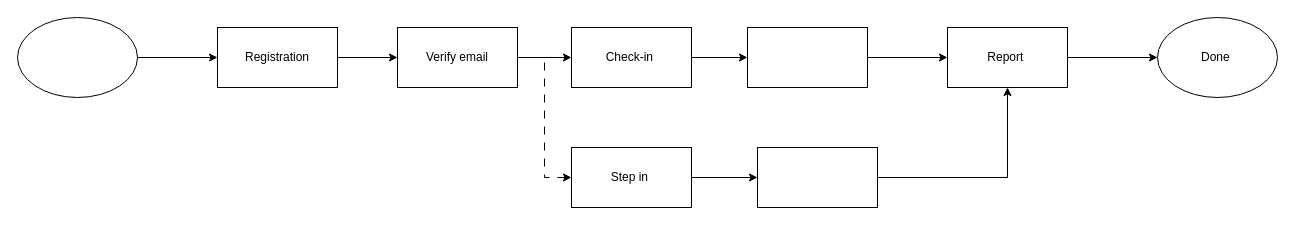
The diagram is 1295 pixels wide and 225 high, and some of its shapes have lost their labels. The centre of each missing label's shape, as x and y in pixels:
Check-out: point (807, 57)
Start: point (77, 57)
Step out: point (817, 177)
